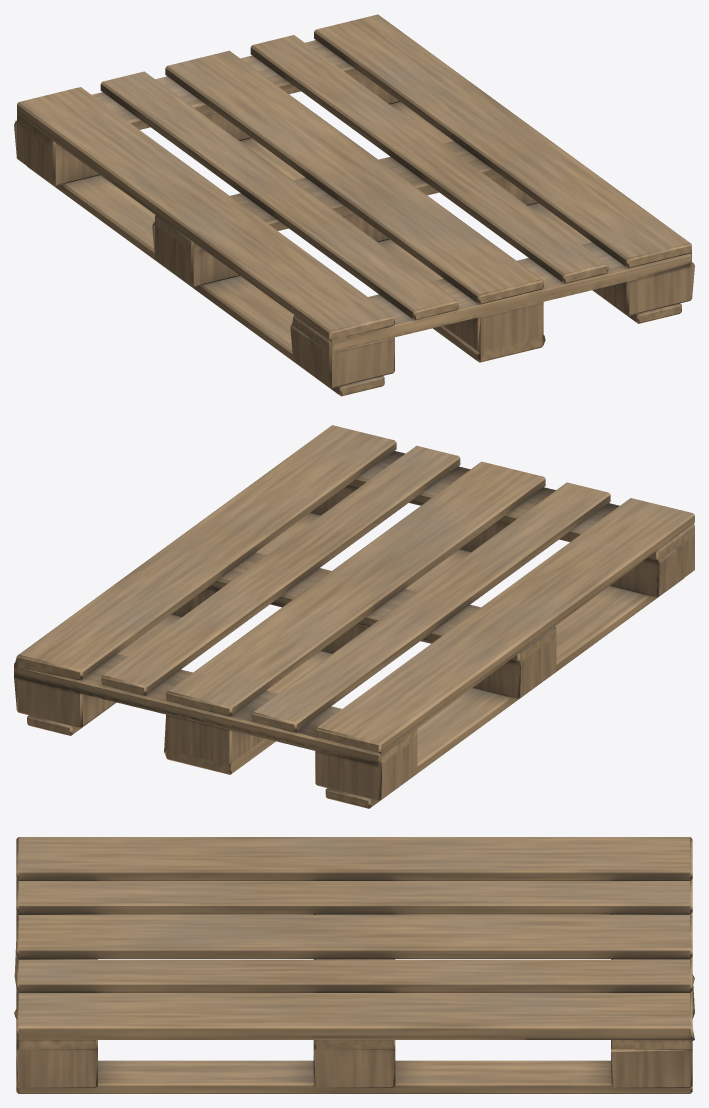
File: EuroPallet.fbx
3 renders of one model, top to bottom at view 1: azimuth 30°, elevation 25°; view 2: azimuth 150°, elevation 25°; view 3: azimuth 270°, elevation 25°, orthographic. The views are drawn at different scales.
Parts seen in each view (by area): view 1: EuroPallet_LOD0; view 2: EuroPallet_LOD0; view 3: EuroPallet_LOD0.
Part boxes in pixels (x1=…): EuroPallet_LOD0: x1=14, y1=14, x2=694, y2=396; EuroPallet_LOD0: x1=14, y1=425, x2=694, y2=808; EuroPallet_LOD0: x1=14, y1=837, x2=694, y2=1093.
Size of what is drawn, in the model's own units: 0.808 by 0.144 by 1.21.
1 material, 1 textured.
